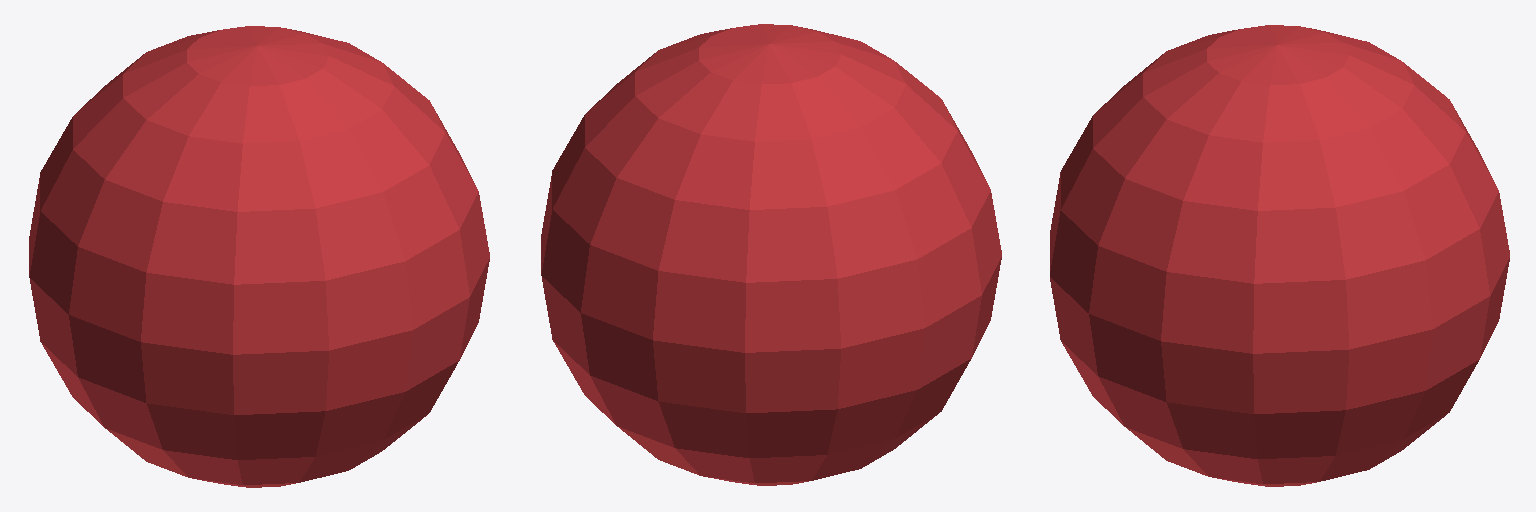
File: projectile_rover.obj
3 views of the same model, side by side, from view 1: azimuth 30°, elevation 25°; view 2: azimuth 150°, elevation 25°; view 3: azimuth 270°, elevation 25° (orthographic).
Parts seen in each view (by area): view 1: Sphere; view 2: Sphere; view 3: Sphere.
Boxes of the visible parts, box(x1,y1,x2,y2) form: Sphere: box(29, 26, 489, 487); Sphere: box(541, 24, 1001, 485); Sphere: box(1050, 25, 1509, 486).
Size of the model in its own units: 0.7459 by 0.75 by 0.7418.